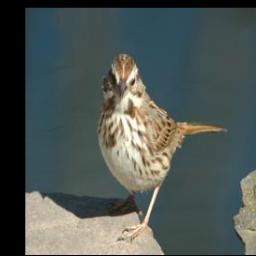Sparrow: (96, 52, 229, 240)
